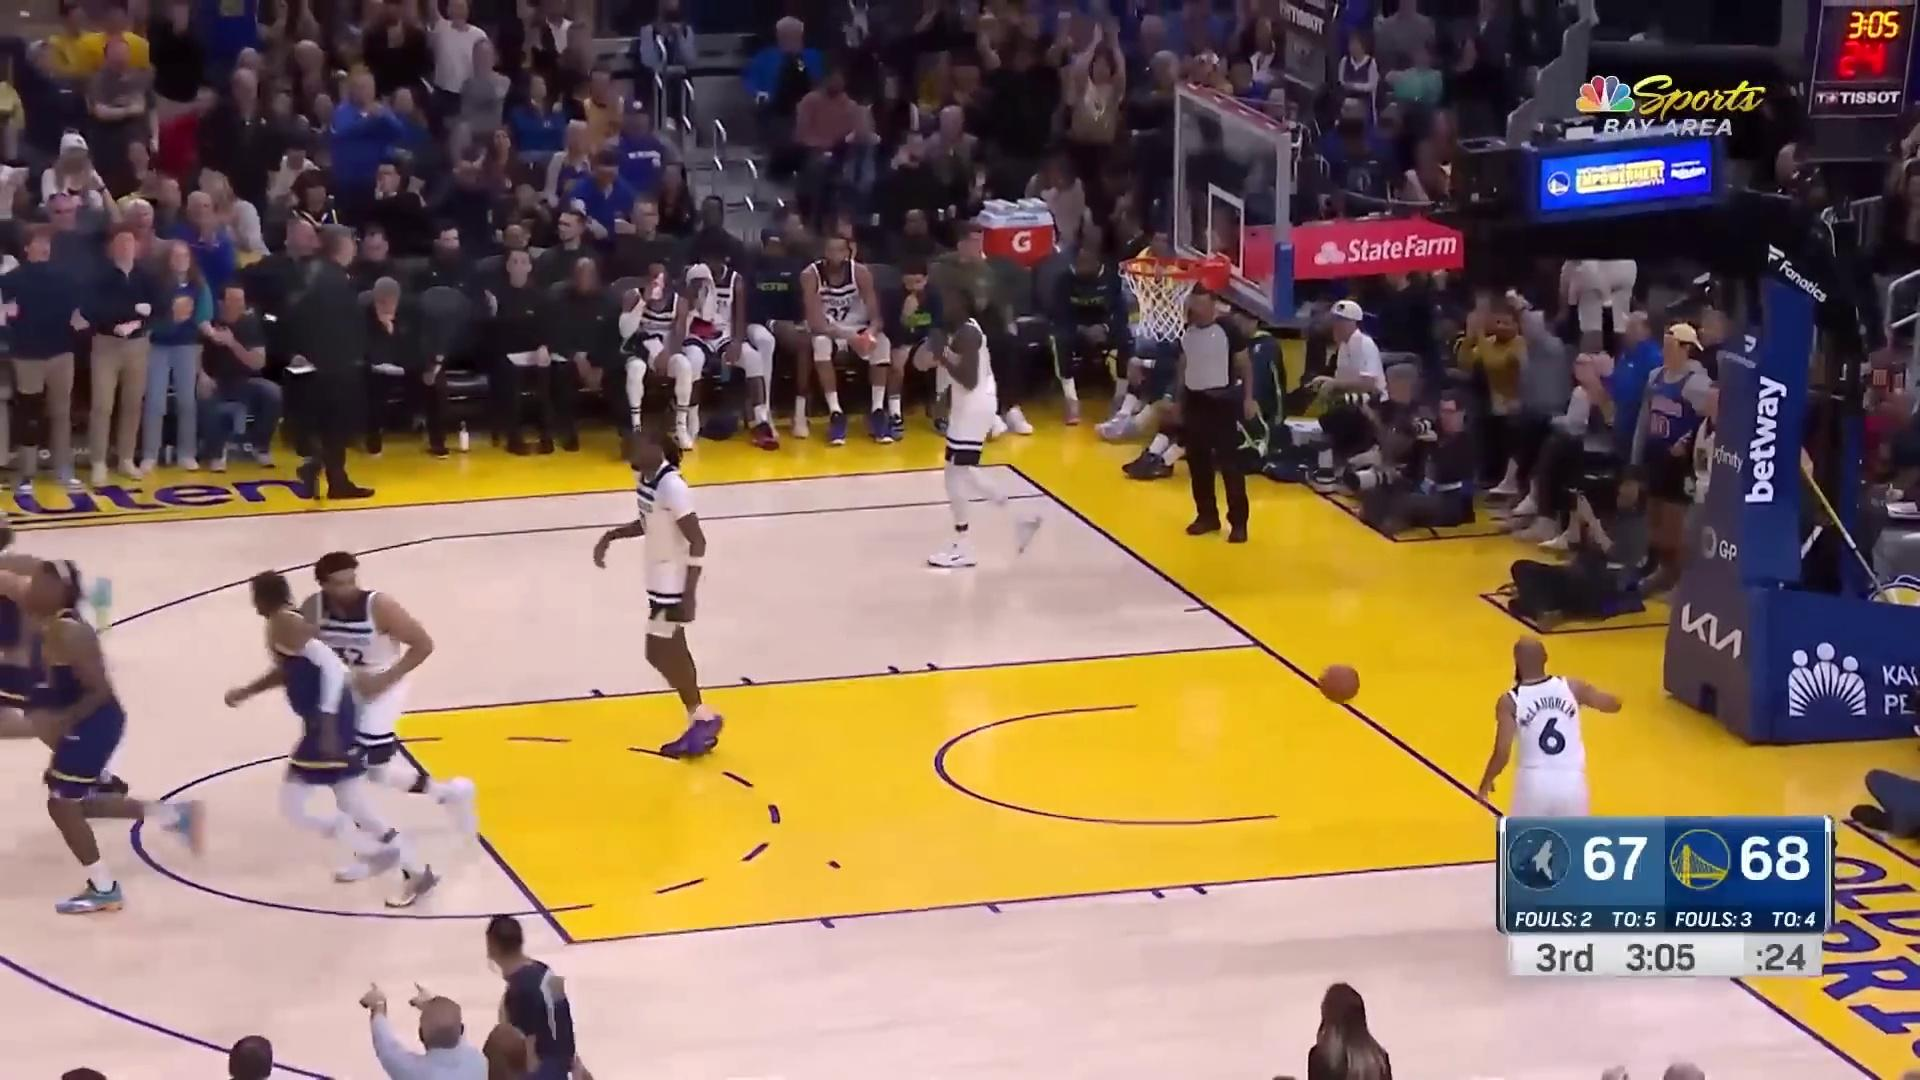Ball: (1323, 663, 1364, 711)
Player: (213, 568, 446, 916), (19, 563, 204, 928), (288, 549, 491, 861), (586, 426, 734, 764), (904, 284, 1061, 576), (1479, 636, 1594, 971)
Rim: (1098, 76, 1301, 351)
